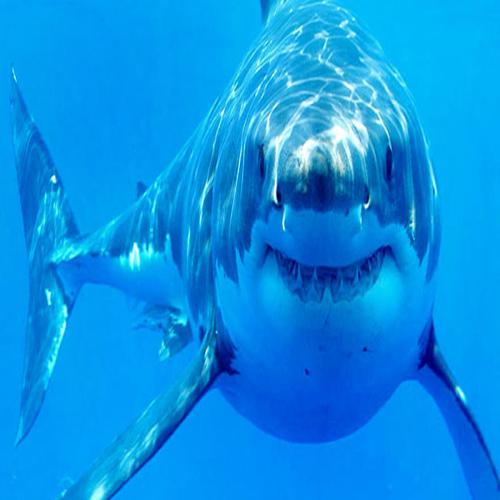shark-endangered: (100, 0, 442, 454)
